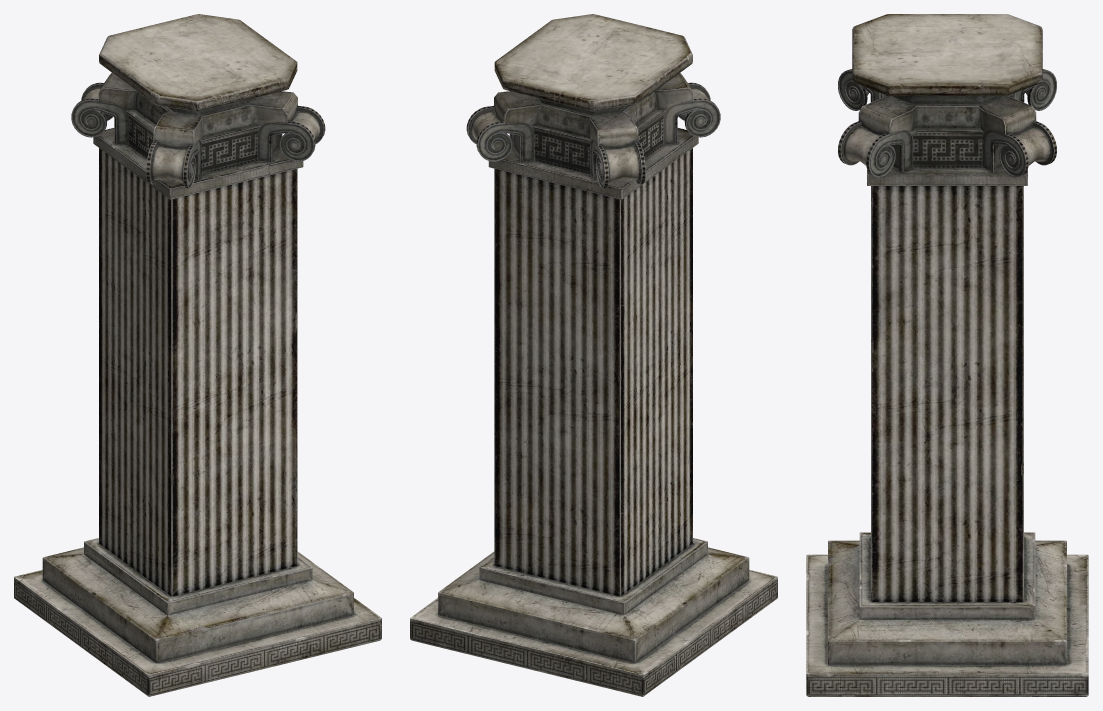
File: pedestal.glb
3 views of the same model, side by side, from view 1: azimuth 30°, elevation 25°; view 2: azimuth 150°, elevation 25°; view 3: azimuth 270°, elevation 25° (orthographic). The views are drawn at different scales.
Visible parts, largest first — view 1: Squared Ionic Classical Pedestal.001; view 2: Squared Ionic Classical Pedestal.001; view 3: Squared Ionic Classical Pedestal.001.
Boxes of the visible parts, x1,y1,x2,y2 form: Squared Ionic Classical Pedestal.001: (14, 14, 381, 696); Squared Ionic Classical Pedestal.001: (410, 14, 777, 696); Squared Ionic Classical Pedestal.001: (806, 14, 1088, 696).
Bounding box in the file's own units: 0.402 × 0.9237 × 0.4013.
Materials: 1 (1 with a texture image).
